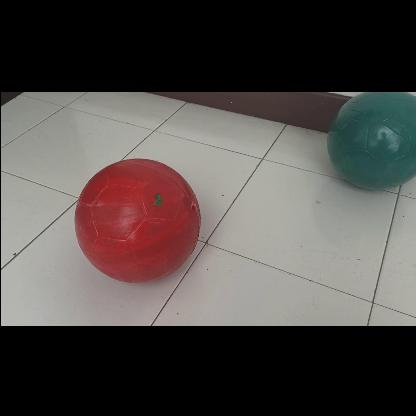red_ball: (72, 154, 200, 282)
